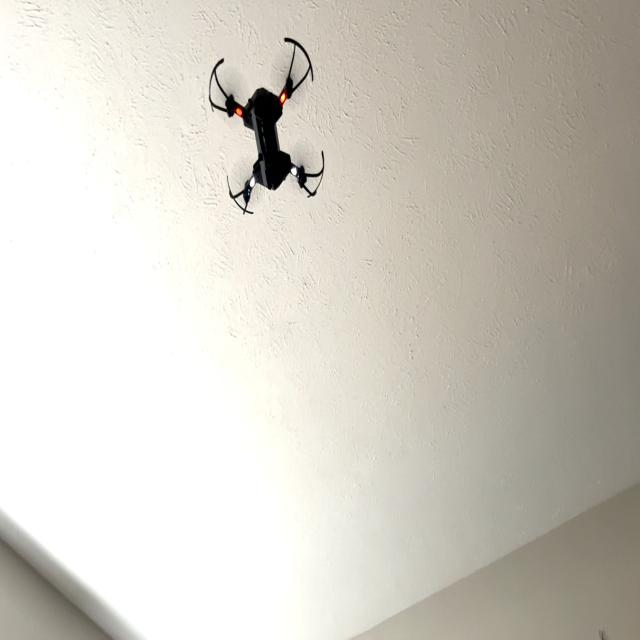drone: (204, 24, 335, 229)
